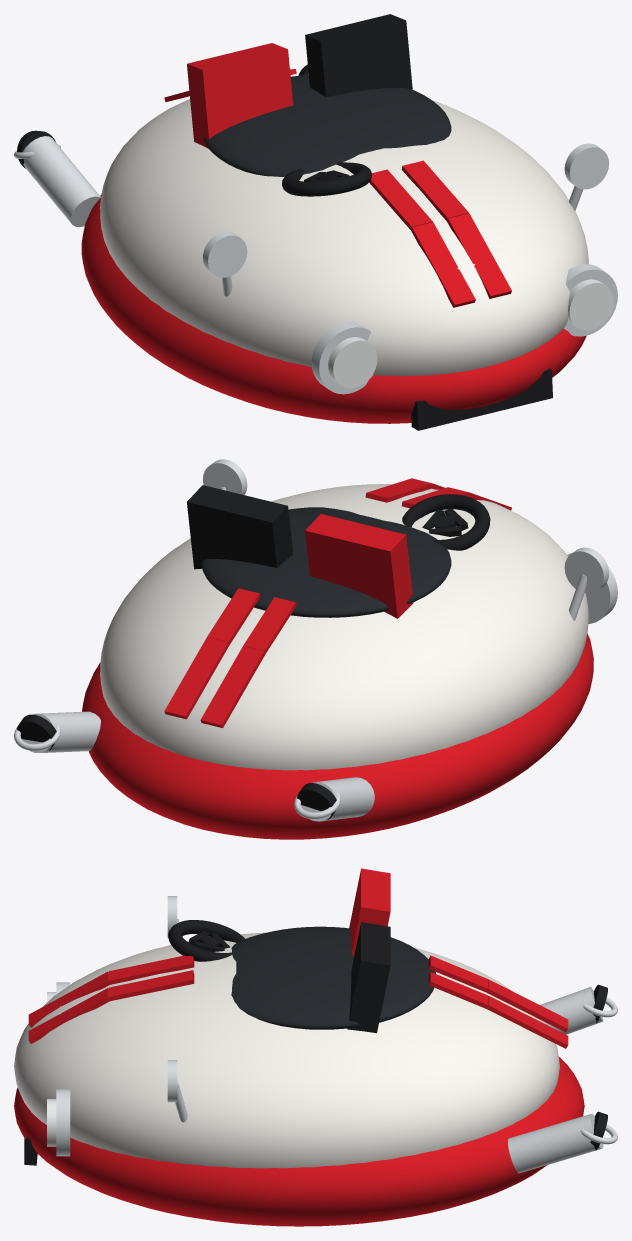
The model's file is A052-14-racerpop-original-materials-taken-actor-runtime-v2.glb.
3 renders of one model, top to bottom at view 1: azimuth 30°, elevation 25°; view 2: azimuth 150°, elevation 25°; view 3: azimuth 270°, elevation 25°, orthographic. The views are drawn at different scales.
Visible parts, largest first — view 1: LP39_RACERPOP_Body_Part_01; view 2: LP39_RACERPOP_Body_Part_01; view 3: LP39_RACERPOP_Body_Part_01.
Boxes of the visible parts, <box> form: LP39_RACERPOP_Body_Part_01: <box>14,14,617,430</box>; LP39_RACERPOP_Body_Part_01: <box>14,459,617,839</box>; LP39_RACERPOP_Body_Part_01: <box>14,868,617,1226</box>.
Bounding box in the file's own units: 0.729 × 0.4897 × 1.
